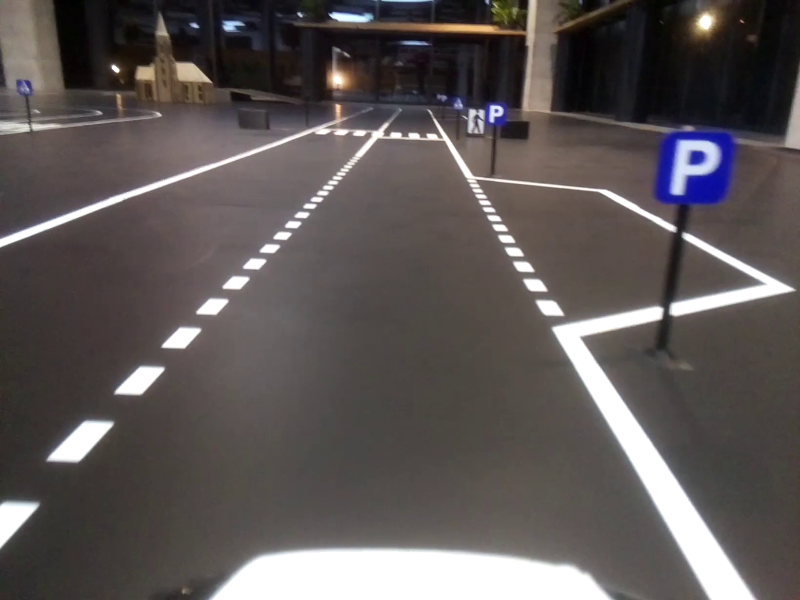park: (659, 128, 730, 210)
